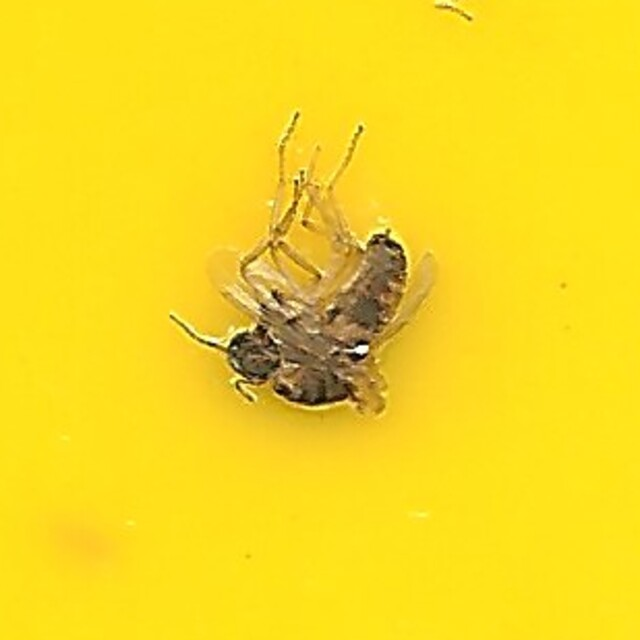Brachycera: (207, 202, 433, 438)
